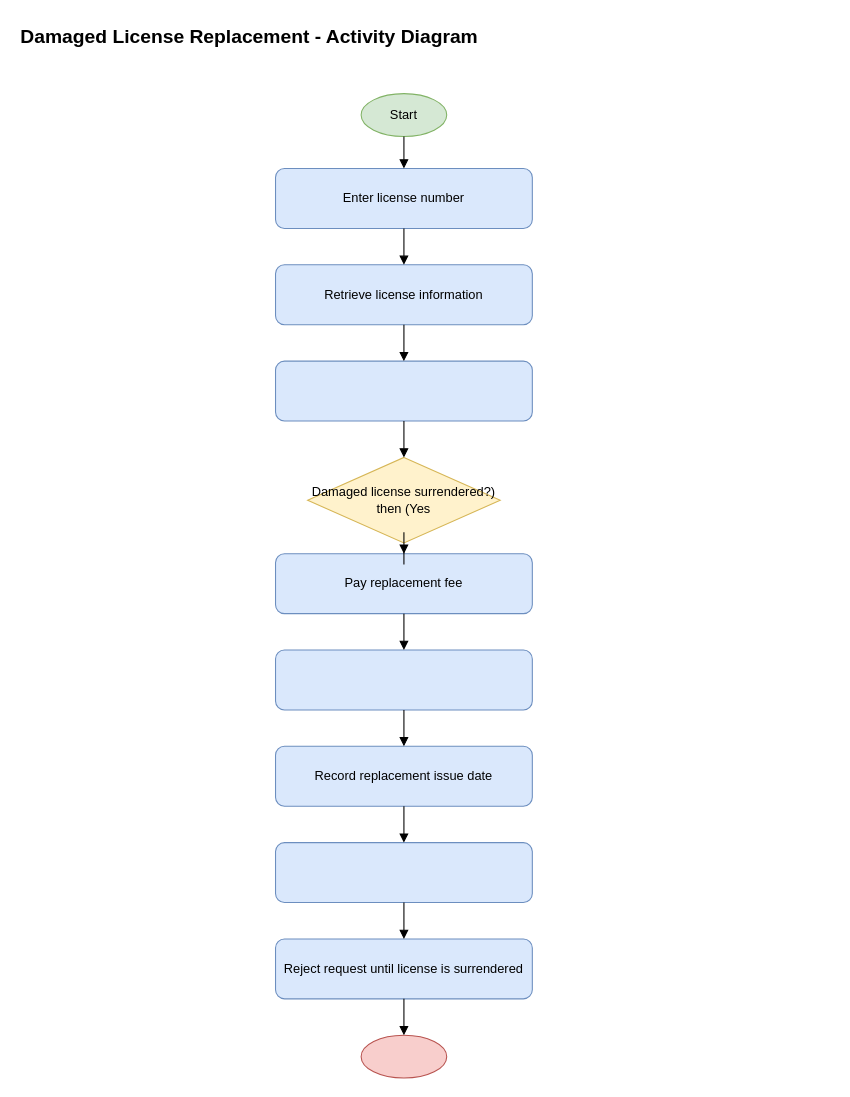
Some shapes in this 850 by 1097 pixel diagram are drawn without their labels. Here are the shapes that lost their labels. From the top down, the box of each, then its label:
(274, 360, 532, 421): Confirm damaged license surrender
(274, 649, 532, 710): Issue replacement license
(274, 842, 532, 903): Display confirmation
(360, 1034, 447, 1078): Stop
